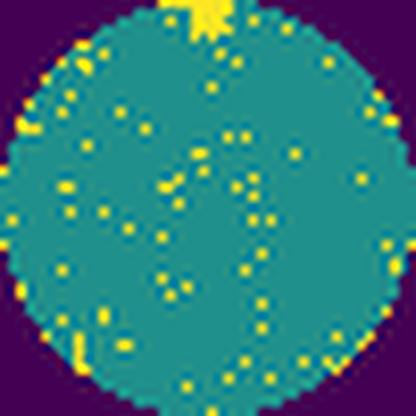Edge-Loc: (154, 0, 247, 45)
